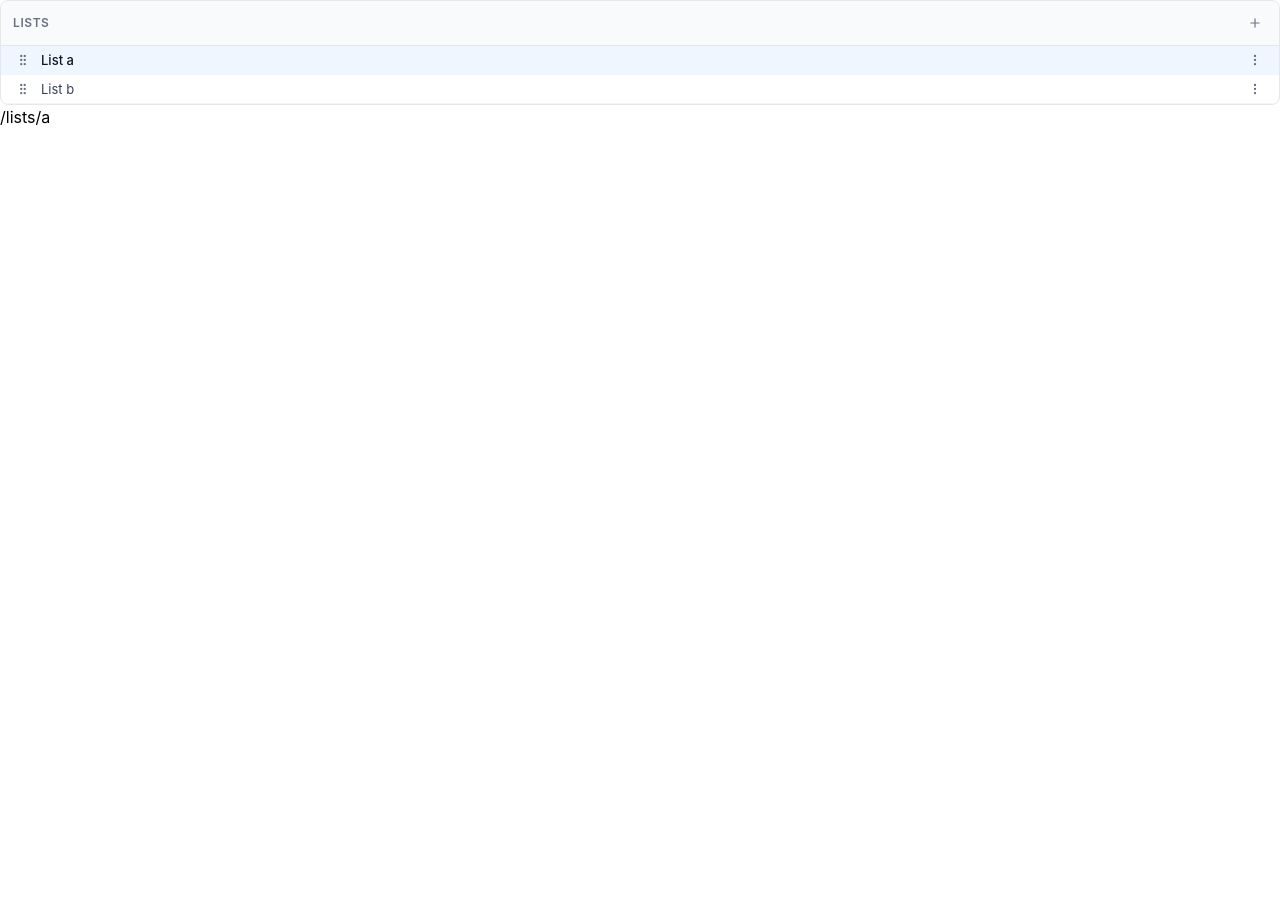
DesktopListsPanel delete navigation › moves off the open list to its successor on the confirm, without waiting for the delete
Click the button named "List options" in the row of "List a" at (1255, 60), box [1243,46,1267,74]
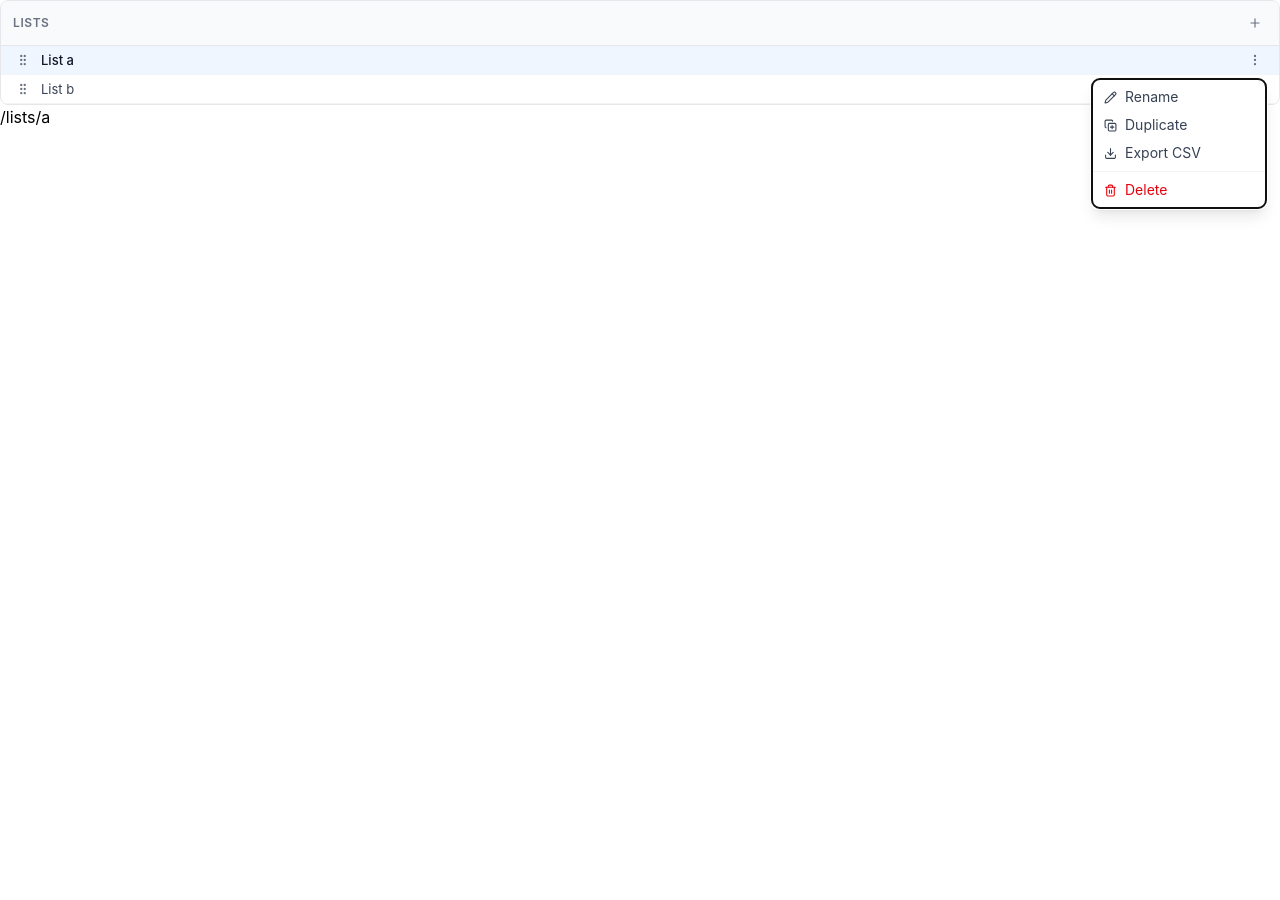
Click the button "Delete" at (1179, 190), box [1092,176,1266,204]
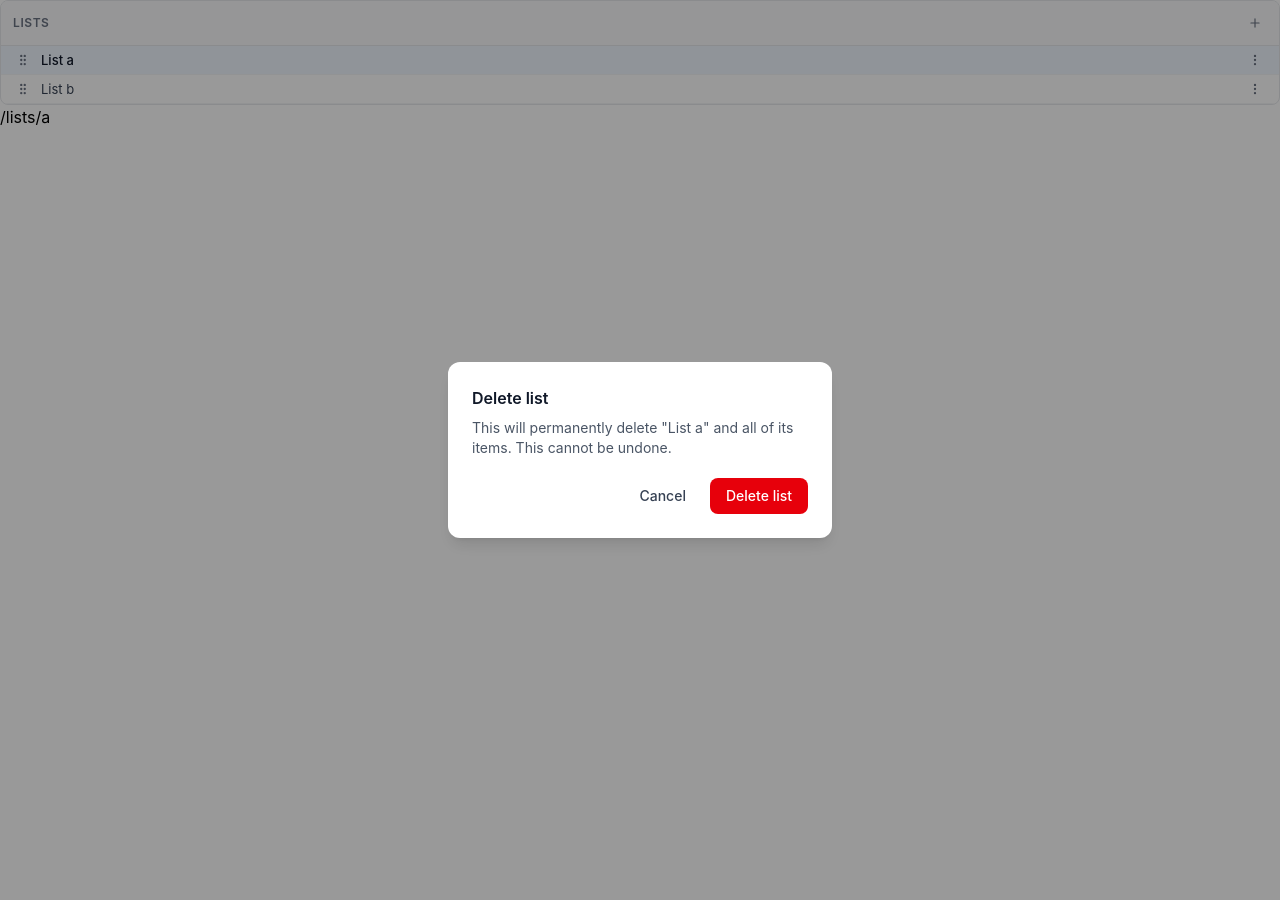
Click the button "Delete list" at (759, 496), box [710,478,808,514]
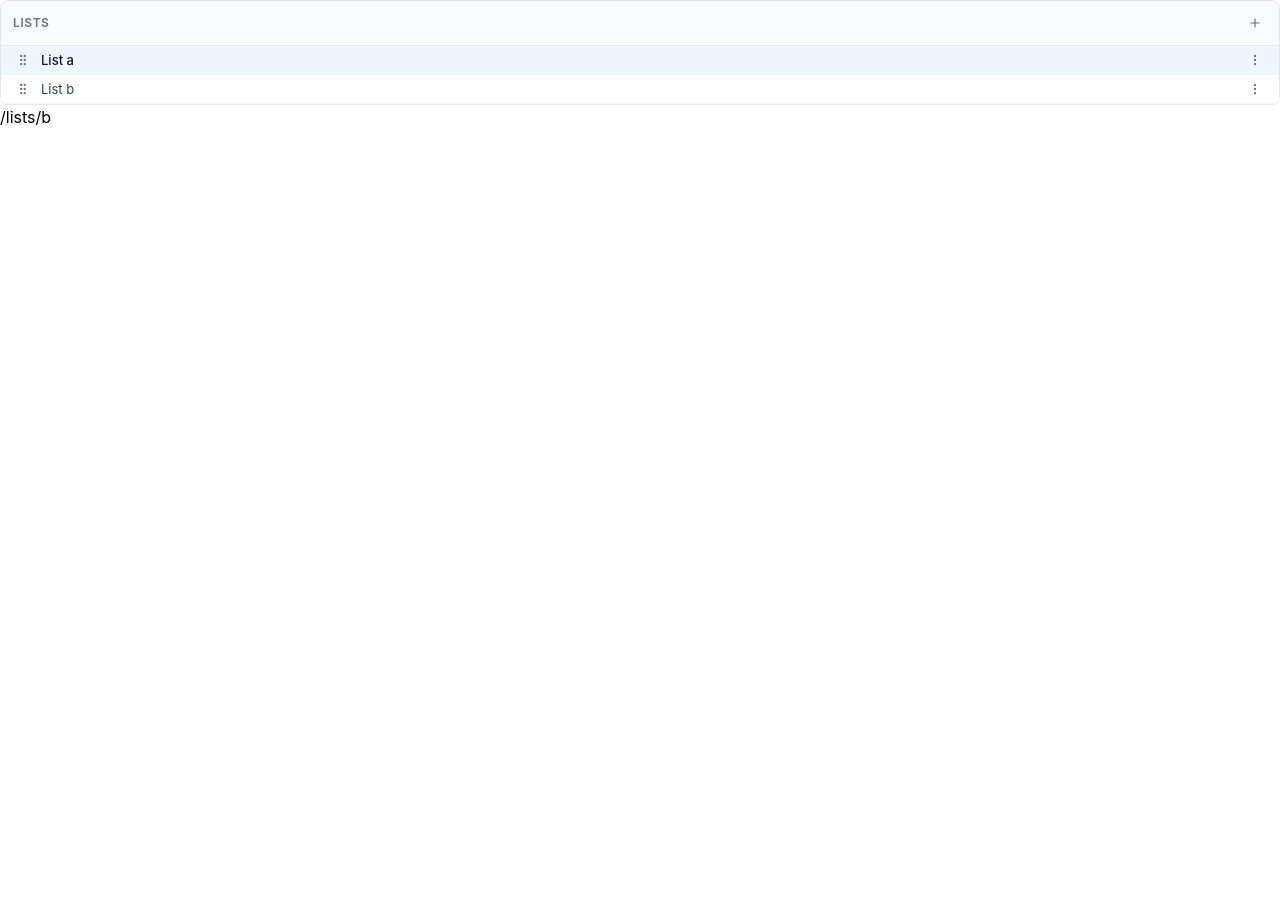
Now the text with test id "location" reads "/lists/b", box [0,107,51,127]
